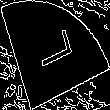L_W: (32, 31, 78, 79)
